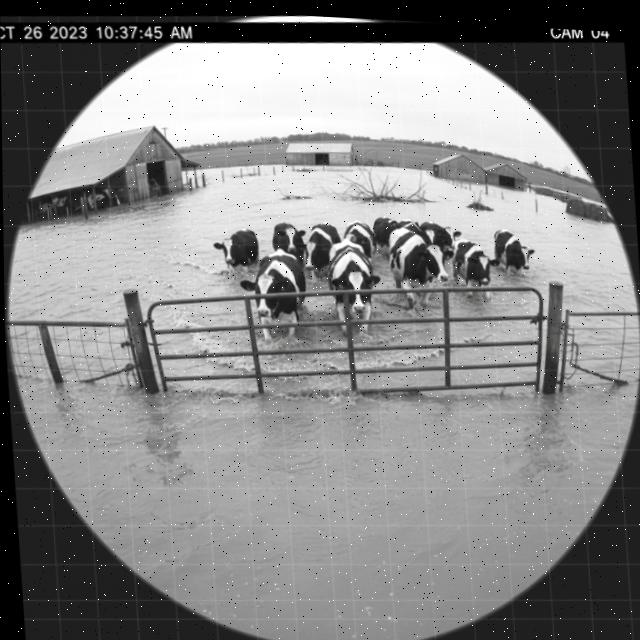cow: (233, 239, 320, 347), (383, 225, 453, 316), (325, 233, 383, 340), (446, 235, 503, 305), (208, 216, 265, 283), (488, 225, 539, 283), (300, 220, 342, 283), (397, 211, 446, 261), (340, 217, 382, 267), (269, 219, 312, 263), (422, 215, 462, 262), (373, 212, 405, 254)
